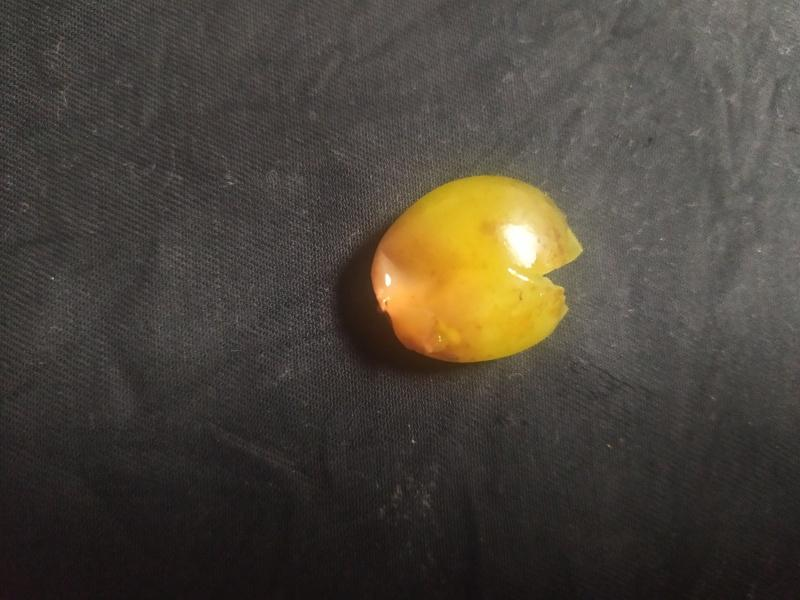Grape Overripe: (368, 173, 584, 366)
